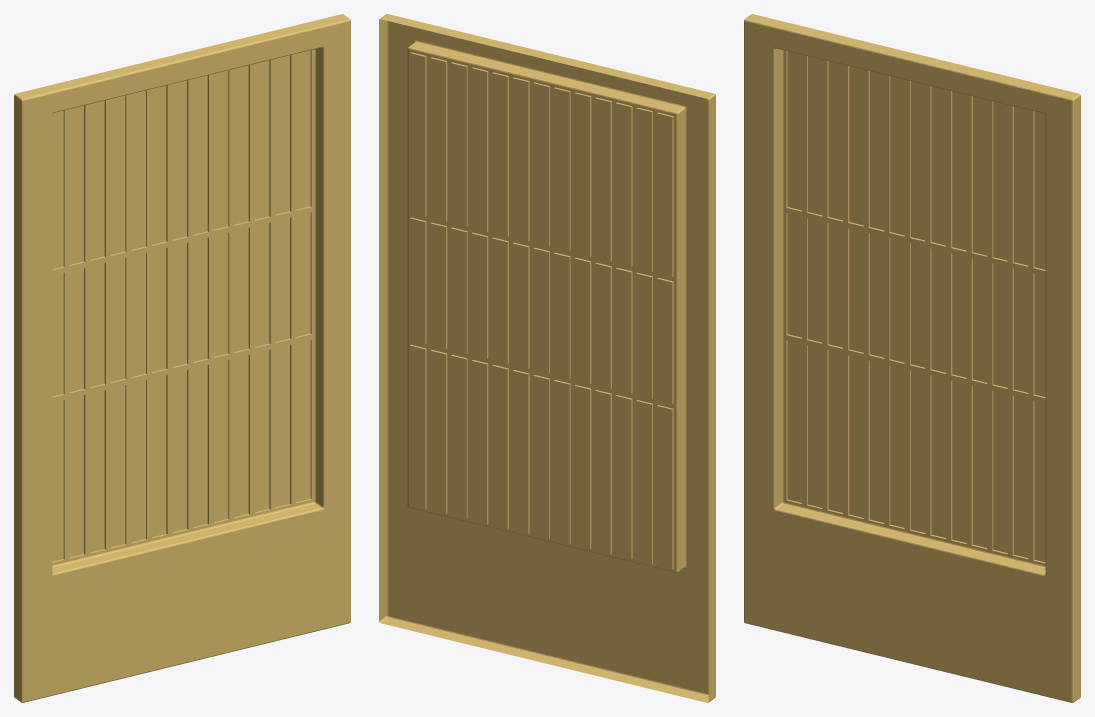
Rendered from model_Window_high.fbx.
The picture shows the model from 3 angles, left to right: view 1: azimuth 30°, elevation 25°; view 2: azimuth 150°, elevation 25°; view 3: azimuth 330°, elevation 25°; orthographic projection.
Parts seen in each view (by area): view 1: pasted__polySurface2; view 2: pasted__polySurface2; view 3: pasted__polySurface2.
Boxes of the visible parts, left/top/right/bottom form: pasted__polySurface2: left=14, top=14, right=350, bottom=702; pasted__polySurface2: left=379, top=14, right=715, bottom=702; pasted__polySurface2: left=744, top=14, right=1080, bottom=702.
Bounding box in the file's own units: 90.52 × 158 × 4.27.
